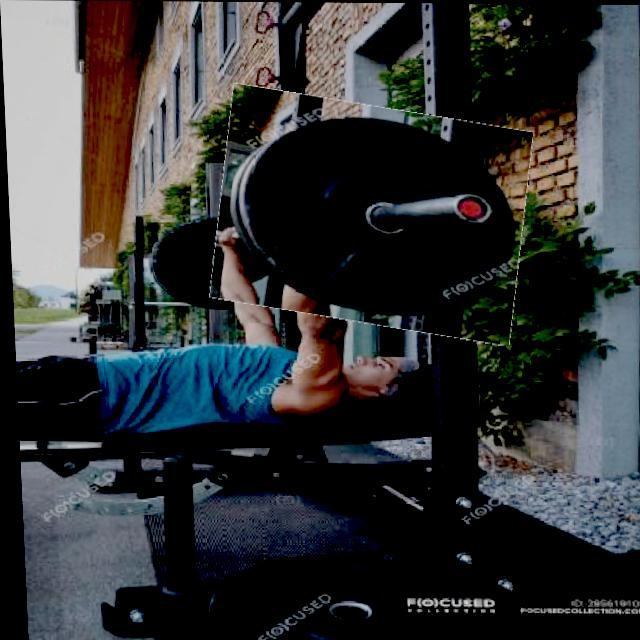barbell: (208, 94, 532, 335)
